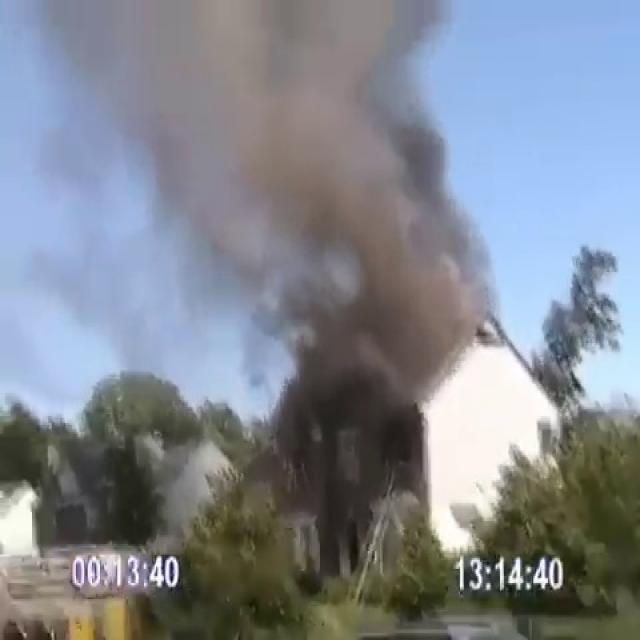Smoke: (19, 0, 494, 532)
